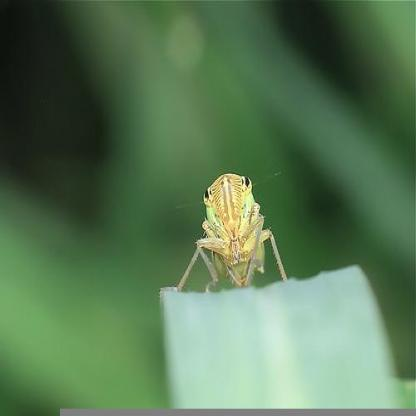Green-Leafhopper: (169, 168, 294, 301)
